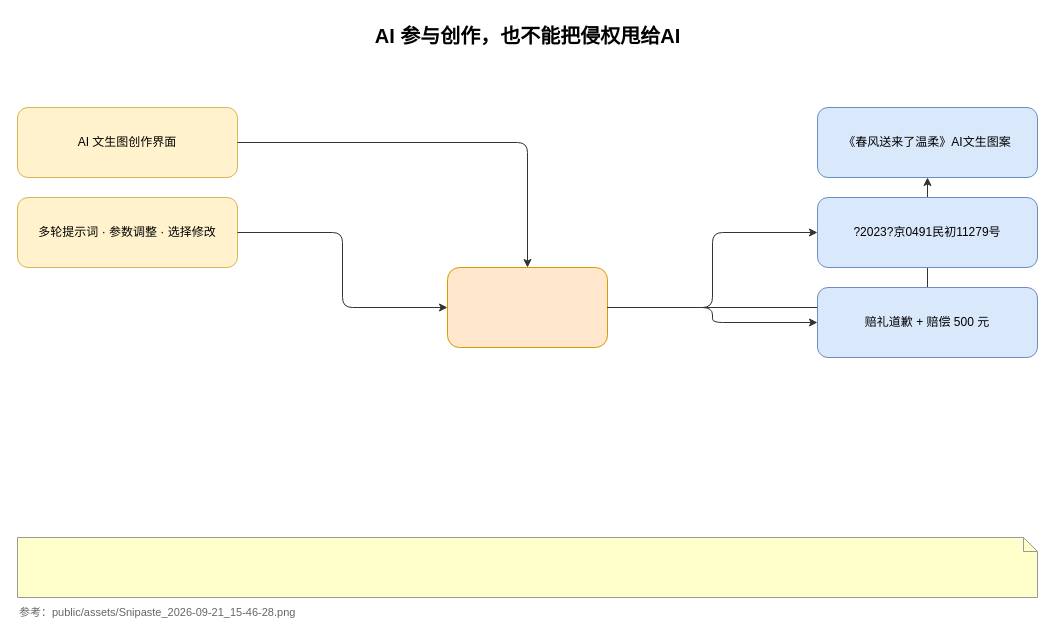
The diagram is 1055 pixels wide and 638 high, and some of its shapes have lost their labels. The box of each missing label's shape, as (x1, y1, x2, y2) in pixels:
保存提示词、参数、版本、原图与修改记录: (16, 536, 1038, 598)
多轮提示词 + 参数调整 + 选择修改 = 人的智力投入: (446, 266, 608, 348)
